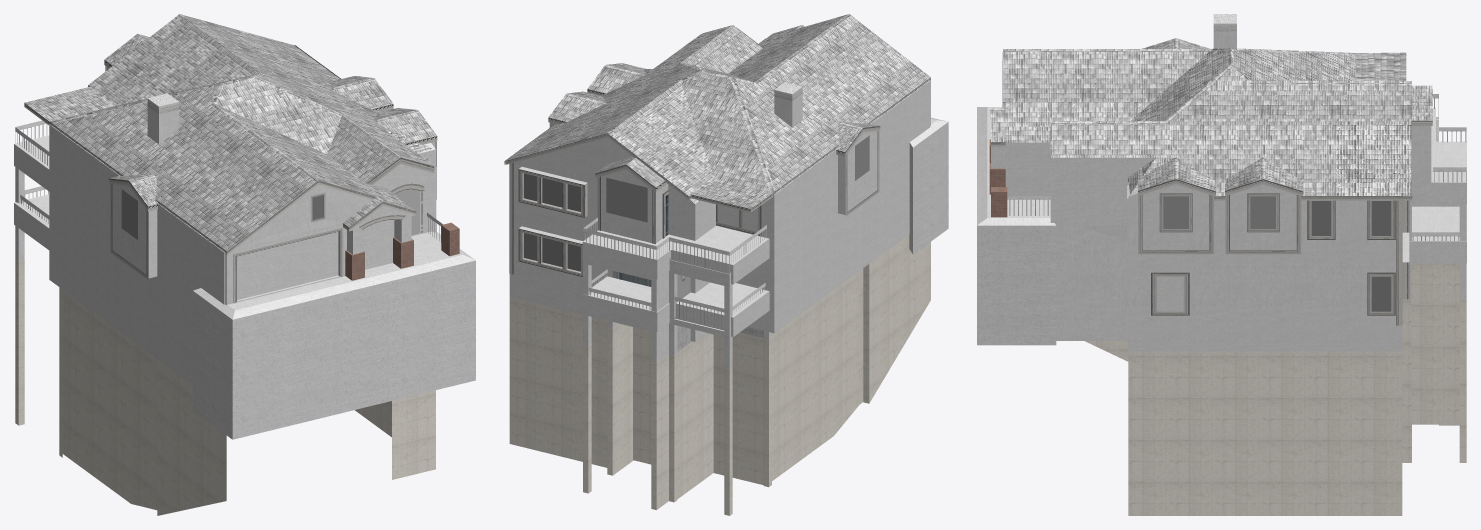
File: house2.dae
3 renders of one model, left to right at view 1: azimuth 30°, elevation 25°; view 2: azimuth 150°, elevation 25°; view 3: azimuth 270°, elevation 25°, orthographic. The views are drawn at different scales.
Visible parts, largest first — view 1: house2_a500, house2_a100, house2_a250, Colmesh-1; view 2: house2_a500, house2_a100, house2_a250, Colmesh-1; view 3: house2_a500, house2_a100, house2_a250, Colmesh-1.
Part boxes in pixels (box(x1,y1,x2,y2)): house2_a500: box(15, 14, 475, 515); house2_a100: box(14, 17, 436, 384); house2_a250: box(71, 15, 419, 302); Colmesh-1: box(193, 179, 459, 319); house2_a500: box(504, 14, 948, 515); house2_a100: box(509, 25, 930, 341); house2_a250: box(562, 58, 930, 319); Colmesh-1: box(763, 26, 947, 147); house2_a500: box(977, 26, 1466, 515); house2_a100: box(1005, 55, 1466, 350); house2_a250: box(1059, 14, 1411, 351); Colmesh-1: box(977, 107, 1050, 209).
Bounding box in the file's own units: 14.41 × 21.16 × 18.62.
